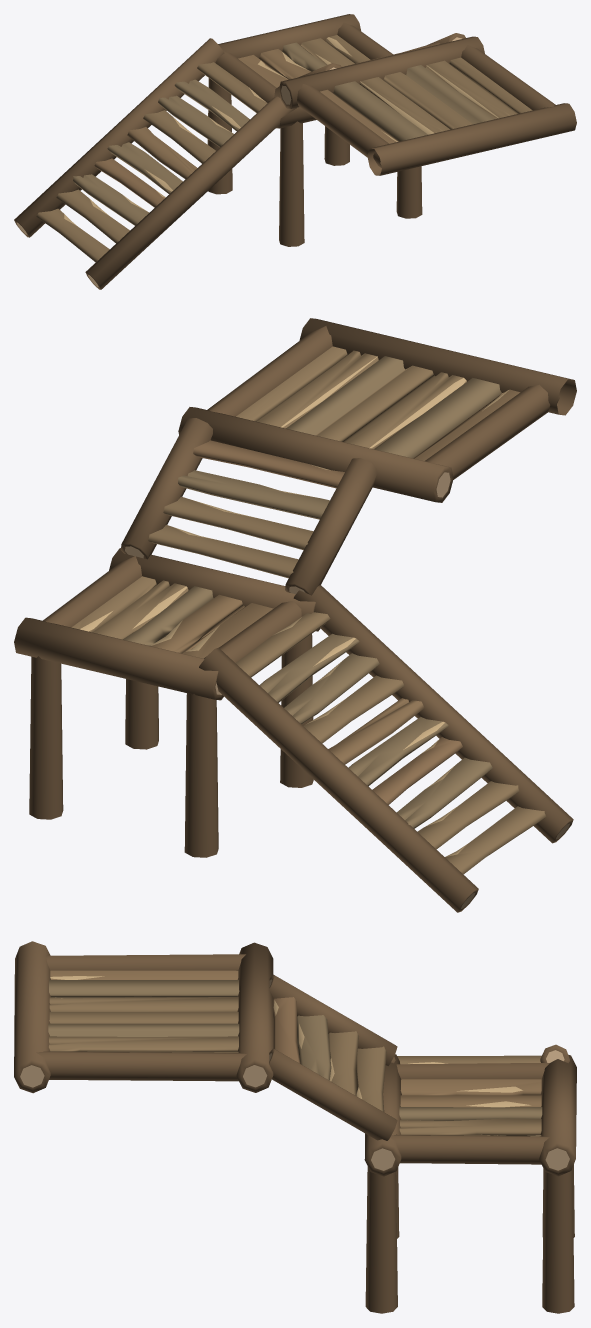
File: rpgpp_ag_stairs_interior_02c_3m.fbx
The picture shows the model from 3 angles, top to bottom: view 1: azimuth 30°, elevation 25°; view 2: azimuth 150°, elevation 25°; view 3: azimuth 270°, elevation 25°; orthographic projection. The views are drawn at different scales.
Parts seen in each view (by area): view 1: rpgpp_ag_stairs_interior_02c_3m; view 2: rpgpp_ag_stairs_interior_02c_3m; view 3: rpgpp_ag_stairs_interior_02c_3m.
Boxes of the visible parts, bbox=[...] form: rpgpp_ag_stairs_interior_02c_3m: bbox=[14, 14, 576, 289]; rpgpp_ag_stairs_interior_02c_3m: bbox=[14, 318, 576, 912]; rpgpp_ag_stairs_interior_02c_3m: bbox=[14, 941, 576, 1313].
Size of the model in its own units: 5.22 by 3.12 by 6.13.
